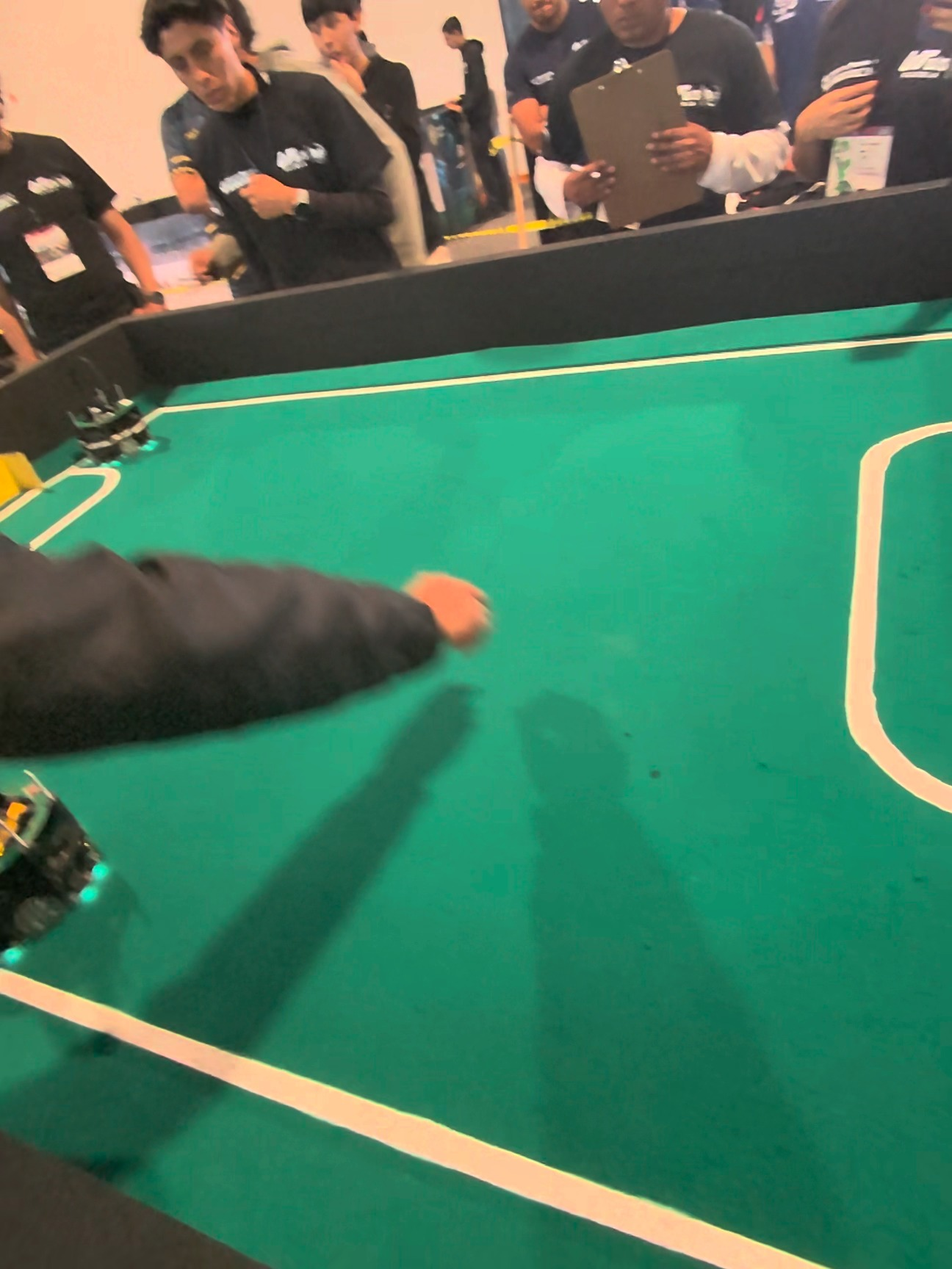Robot: (0, 771, 110, 950), (55, 347, 181, 493)
